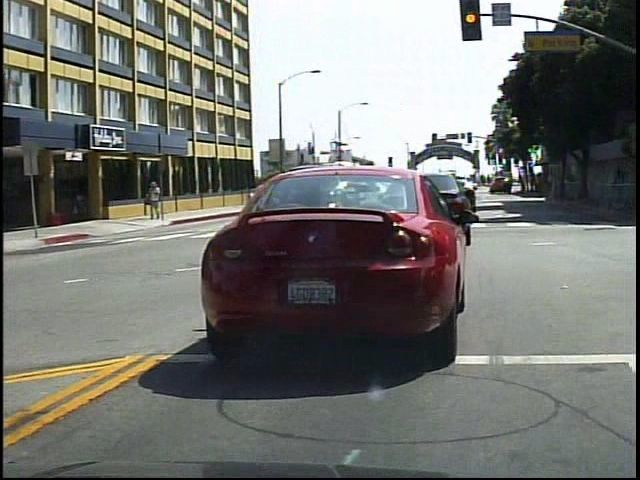person: (145, 177, 168, 225)
